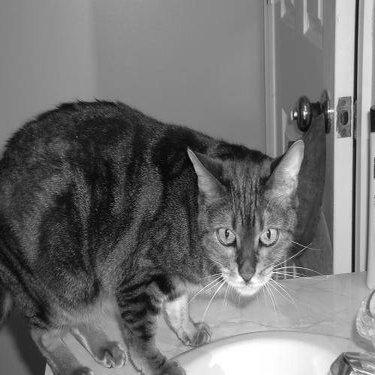cat: (2, 97, 306, 370)
